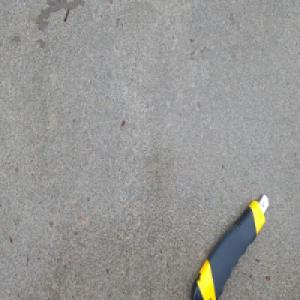Cutter: (188, 190, 269, 300)
